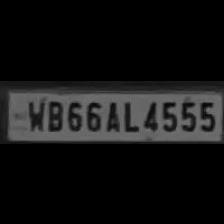4: (139, 97, 159, 131)
5: (196, 97, 216, 131), (158, 97, 176, 131), (178, 97, 196, 131)
6: (82, 97, 102, 131), (64, 97, 82, 131)
A: (104, 97, 122, 132)
B: (44, 97, 64, 131)
L: (118, 96, 138, 132)
W: (23, 96, 45, 132)
